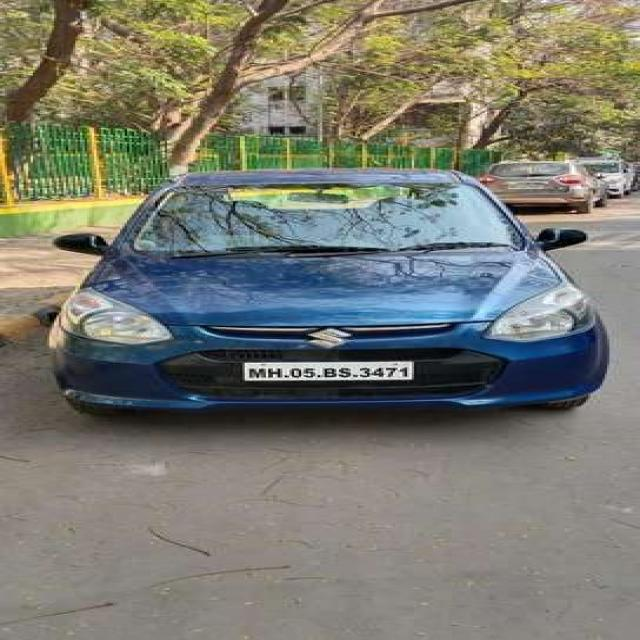license_plate: (239, 360, 416, 383)
